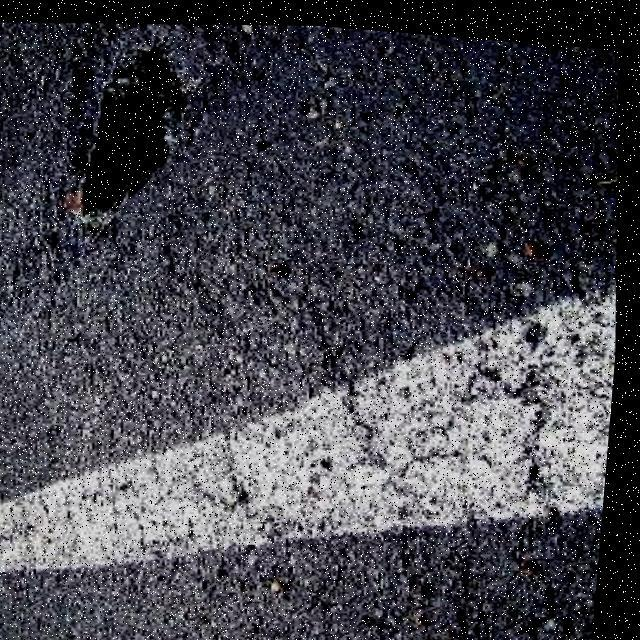pothole: (67, 35, 203, 226)
